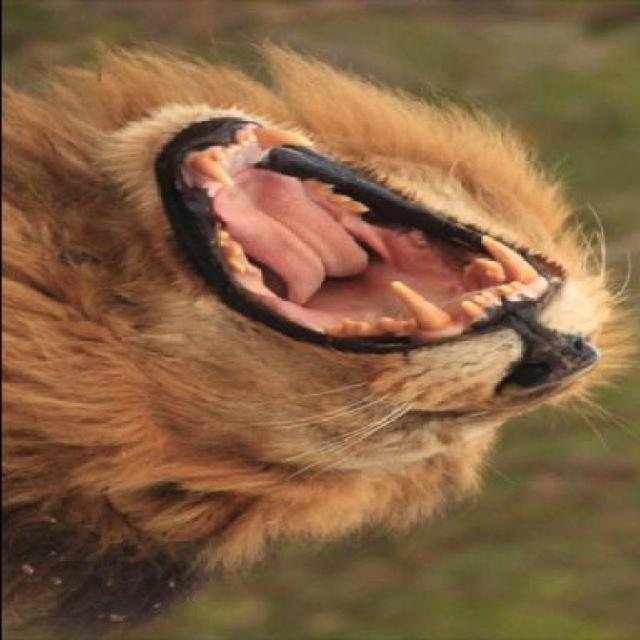Lion: (2, 34, 629, 578)
